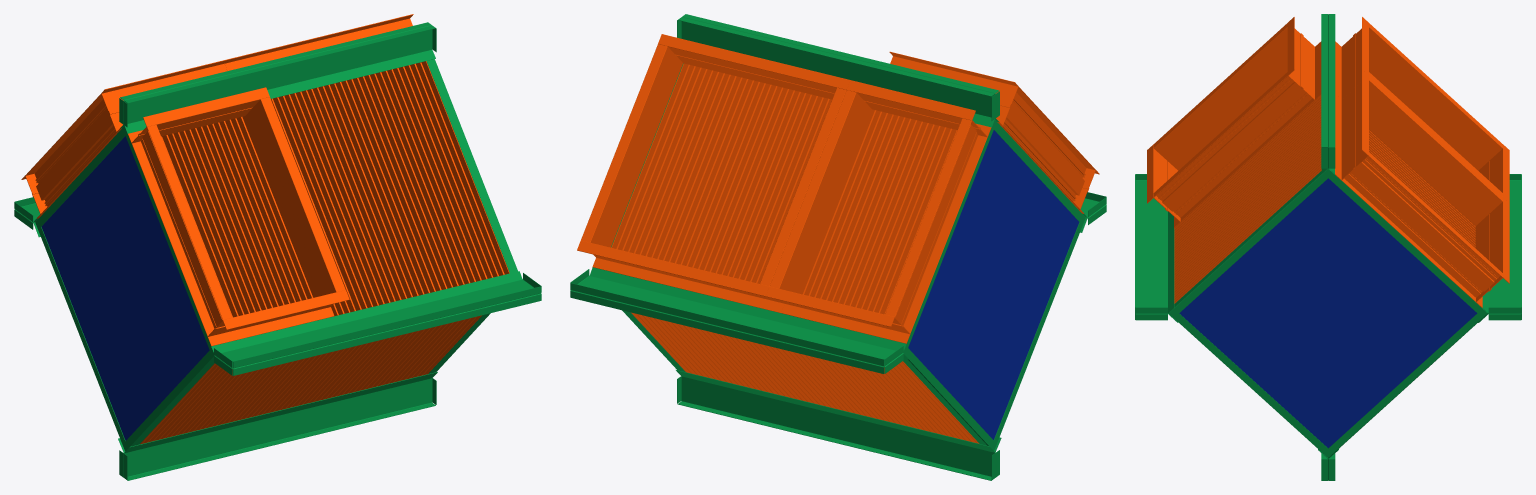
The model's file is rekuperatorKorp.FBX.
The picture shows the model from 3 angles, left to right: view 1: azimuth 30°, elevation 25°; view 2: azimuth 150°, elevation 25°; view 3: azimuth 270°, elevation 25°; orthographic projection. The views are drawn at different scales.
Visible parts, largest first — view 1: rekuperatorKorp; view 2: rekuperatorKorp; view 3: rekuperatorKorp.
Part boxes in pixels (left/top/right/bottom): rekuperatorKorp: left=14, top=14, right=541, bottom=480; rekuperatorKorp: left=570, top=14, right=1106, bottom=480; rekuperatorKorp: left=1135, top=14, right=1521, bottom=480.
Bounding box in the file's own units: 900 × 1050 × 1102.
